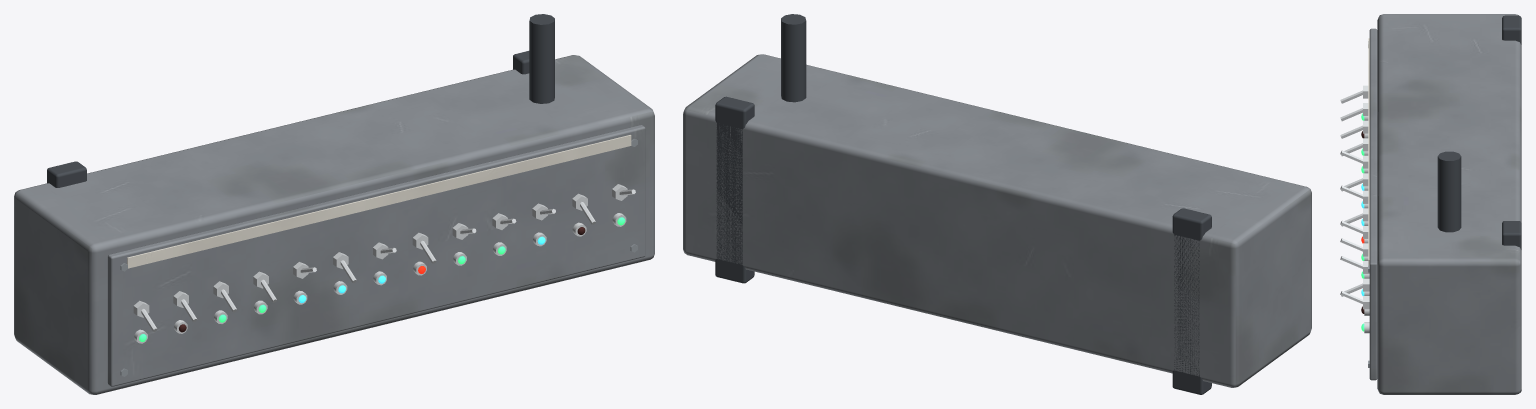
Rendered from WallBox_90_3.glb.
3 renders of one model, left to right at view 1: azimuth 30°, elevation 25°; view 2: azimuth 150°, elevation 25°; view 3: azimuth 270°, elevation 25°, orthographic. The views are drawn at different scales.
Parts seen in each view (by area): view 1: WallBox_90_3_Body; view 2: WallBox_90_3_Body; view 3: WallBox_90_3_Body.
Boxes of the visible parts, bbox=[...] form: WallBox_90_3_Body: bbox=[14, 14, 654, 394]; WallBox_90_3_Body: bbox=[683, 14, 1311, 394]; WallBox_90_3_Body: bbox=[1340, 14, 1521, 394].
Bounding box in the file's own units: 0.9 × 0.37 × 0.2766.
Materials: 9 (2 with a texture image).
